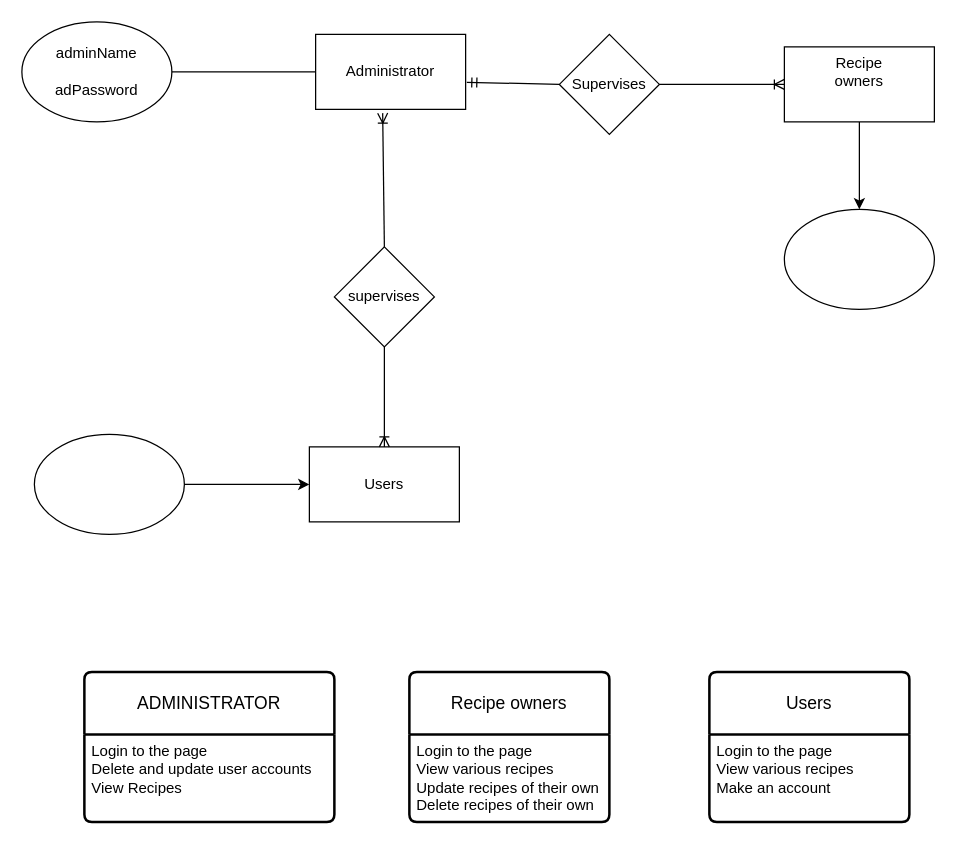
The diagram is 956 pixels wide and 845 high, and some of its shapes have lost their labels. Here are the shapes that lost their labels. From the top down, the box of each, then its label:
(783, 208, 934, 309): owName owPassword
(33, 433, 184, 534): userName userPassword
